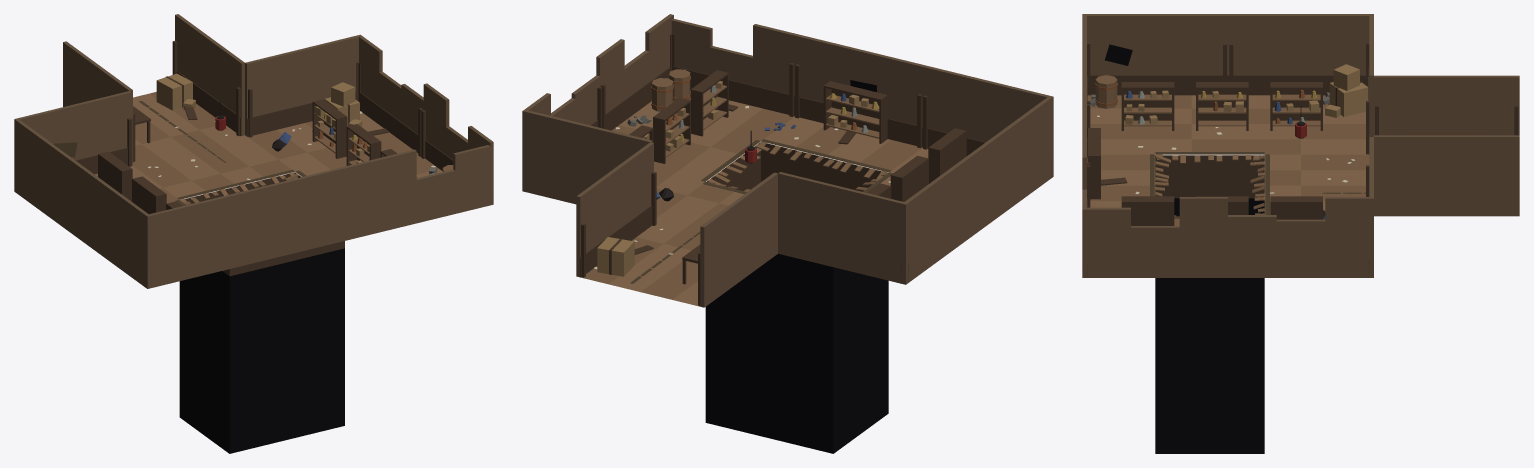
File: -O_C_pit.fbx
The picture shows the model from 3 angles, left to right: view 1: azimuth 30°, elevation 25°; view 2: azimuth 150°, elevation 25°; view 3: azimuth 270°, elevation 25°; orthographic projection. The views are drawn at different scales.
Parts seen in each view (by area): view 1: -O_C_pit, -O_C_pit_Deco; view 2: -O_C_pit, -O_C_pit_Deco; view 3: -O_C_pit, -O_C_pit_Deco.
Boxes of the visible parts, x1,y1,x2,y2 form: -O_C_pit: (14, 14, 493, 288); -O_C_pit_Deco: (16, 40, 490, 453); -O_C_pit: (522, 14, 1053, 307); -O_C_pit_Deco: (580, 33, 1051, 453); -O_C_pit: (1082, 14, 1519, 277); -O_C_pit_Deco: (1087, 43, 1518, 453).
Size of the model in its own units: 2 by 2 by 1.6.
